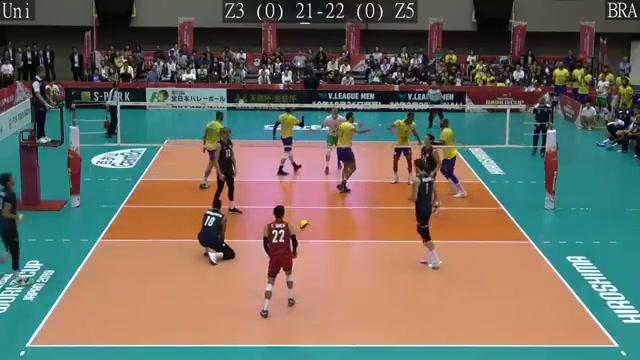ball: (299, 218, 309, 232)
